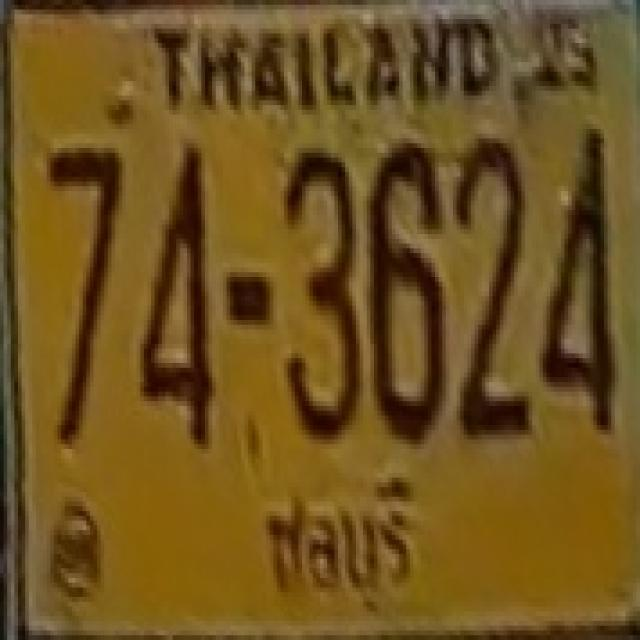2: (453, 136, 525, 404), (451, 136, 523, 385)
3: (280, 146, 356, 437)
4: (538, 126, 613, 428), (137, 141, 212, 442)
6: (367, 141, 442, 437)
7: (48, 146, 120, 432), (47, 143, 122, 382), (47, 146, 122, 332)
CBI: (250, 474, 420, 603)
